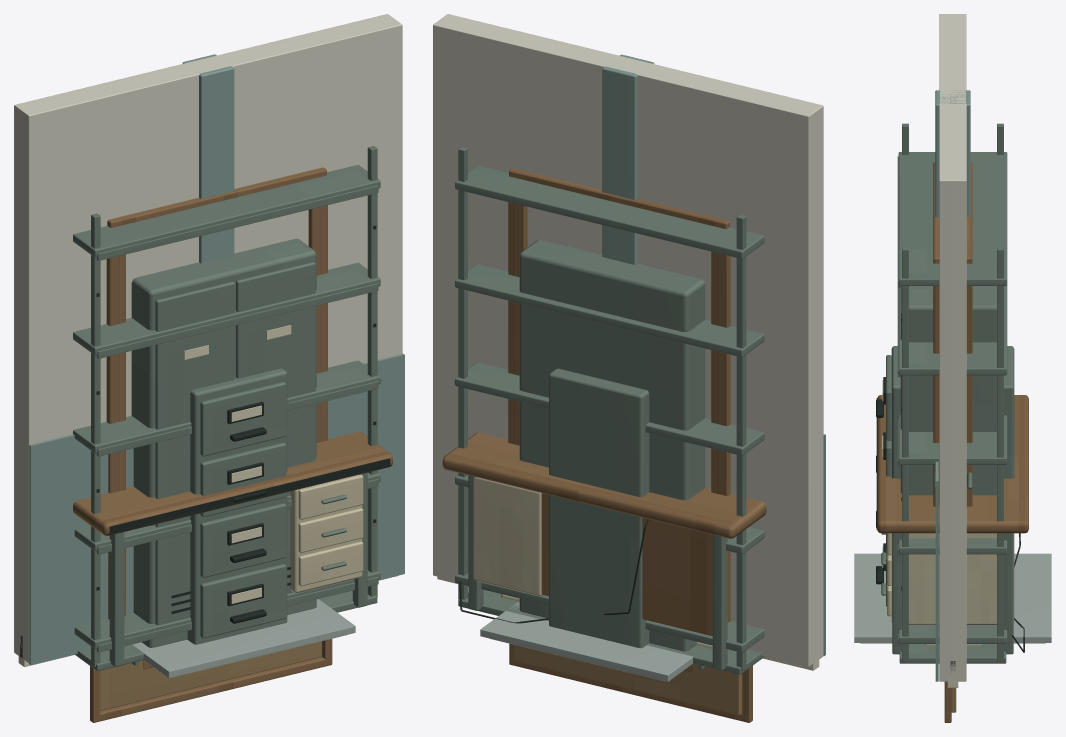
File: office-kit.glb
3 views of the same model, side by side, from view 1: azimuth 30°, elevation 25°; view 2: azimuth 150°, elevation 25°; view 3: azimuth 270°, elevation 25° (orthographic). The views are drawn at different scales.
Visible parts, largest first — view 1: wall_mesh, cabinet_mesh, shelf_mesh, filing_cabinet_mesh, desk_mesh, door_frame_mesh, noticeboard_mesh, ceiling_panel_mesh, corner_mesh, shelf_board_mesh; view 2: wall_mesh, cabinet_mesh, shelf_mesh, desk_mesh, filing_cabinet_mesh, door_frame_mesh, noticeboard_mesh, ceiling_panel_mesh, corner_mesh, shelf_board_mesh; view 3: shelf_mesh, wall_mesh, desk_mesh, cabinet_mesh, ceiling_panel_mesh, filing_cabinet_mesh, door_frame_mesh, corner_mesh, shelf_board_mesh, noticeboard_mesh.
Part boxes in pixels (left/top/right/bottom): wall_mesh: left=14, top=14, right=404, bottom=664; cabinet_mesh: left=131, top=238, right=316, bottom=647; shelf_mesh: left=73, top=146, right=380, bottom=667; filing_cabinet_mesh: left=187, top=368, right=287, bottom=644; desk_mesh: left=73, top=431, right=392, bottom=666; door_frame_mesh: left=106, top=167, right=327, bottom=619; noticeboard_mesh: left=90, top=639, right=332, bottom=722; ceiling_panel_mesh: left=132, top=599, right=355, bottom=678; corner_mesh: left=182, top=54, right=234, bottom=263; shelf_board_mesh: left=75, top=590, right=377, bottom=670; wall_mesh: left=433, top=14, right=825, bottom=666; cabinet_mesh: left=519, top=240, right=705, bottom=651; shelf_mesh: left=455, top=146, right=764, bottom=670; desk_mesh: left=442, top=432, right=766, bottom=670; filing_cabinet_mesh: left=549, top=368, right=649, bottom=648; door_frame_mesh: left=508, top=168, right=730, bottom=622; noticeboard_mesh: left=509, top=643, right=752, bottom=722; ceiling_panel_mesh: left=480, top=602, right=693, bottom=681; corner_mesh: left=602, top=54, right=654, bottom=264; shelf_board_mesh: left=458, top=589, right=764, bottom=674; shelf_mesh: left=897, top=123, right=1007, bottom=661; wall_mesh: left=935, top=14, right=966, bottom=681; desk_mesh: left=876, top=395, right=1028, bottom=654; cabinet_mesh: left=900, top=286, right=996, bottom=495; ceiling_panel_mesh: left=854, top=553, right=1051, bottom=643; filing_cabinet_mesh: left=876, top=346, right=1014, bottom=606; door_frame_mesh: left=933, top=162, right=972, bottom=506; corner_mesh: left=935, top=90, right=970, bottom=217; shelf_board_mesh: left=899, top=644, right=1006, bottom=663; noticeboard_mesh: left=944, top=681, right=956, bottom=722.
Size of the model in its own units: 2 by 3.2 by 1.
Materials: 13 (1 with a texture image).
